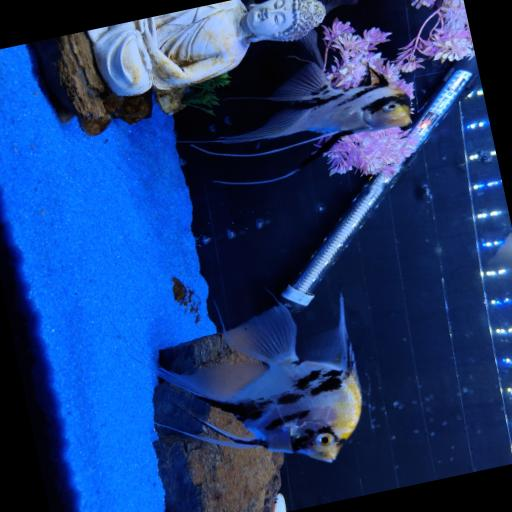Fish: (152, 295, 360, 461), (217, 62, 410, 168)
